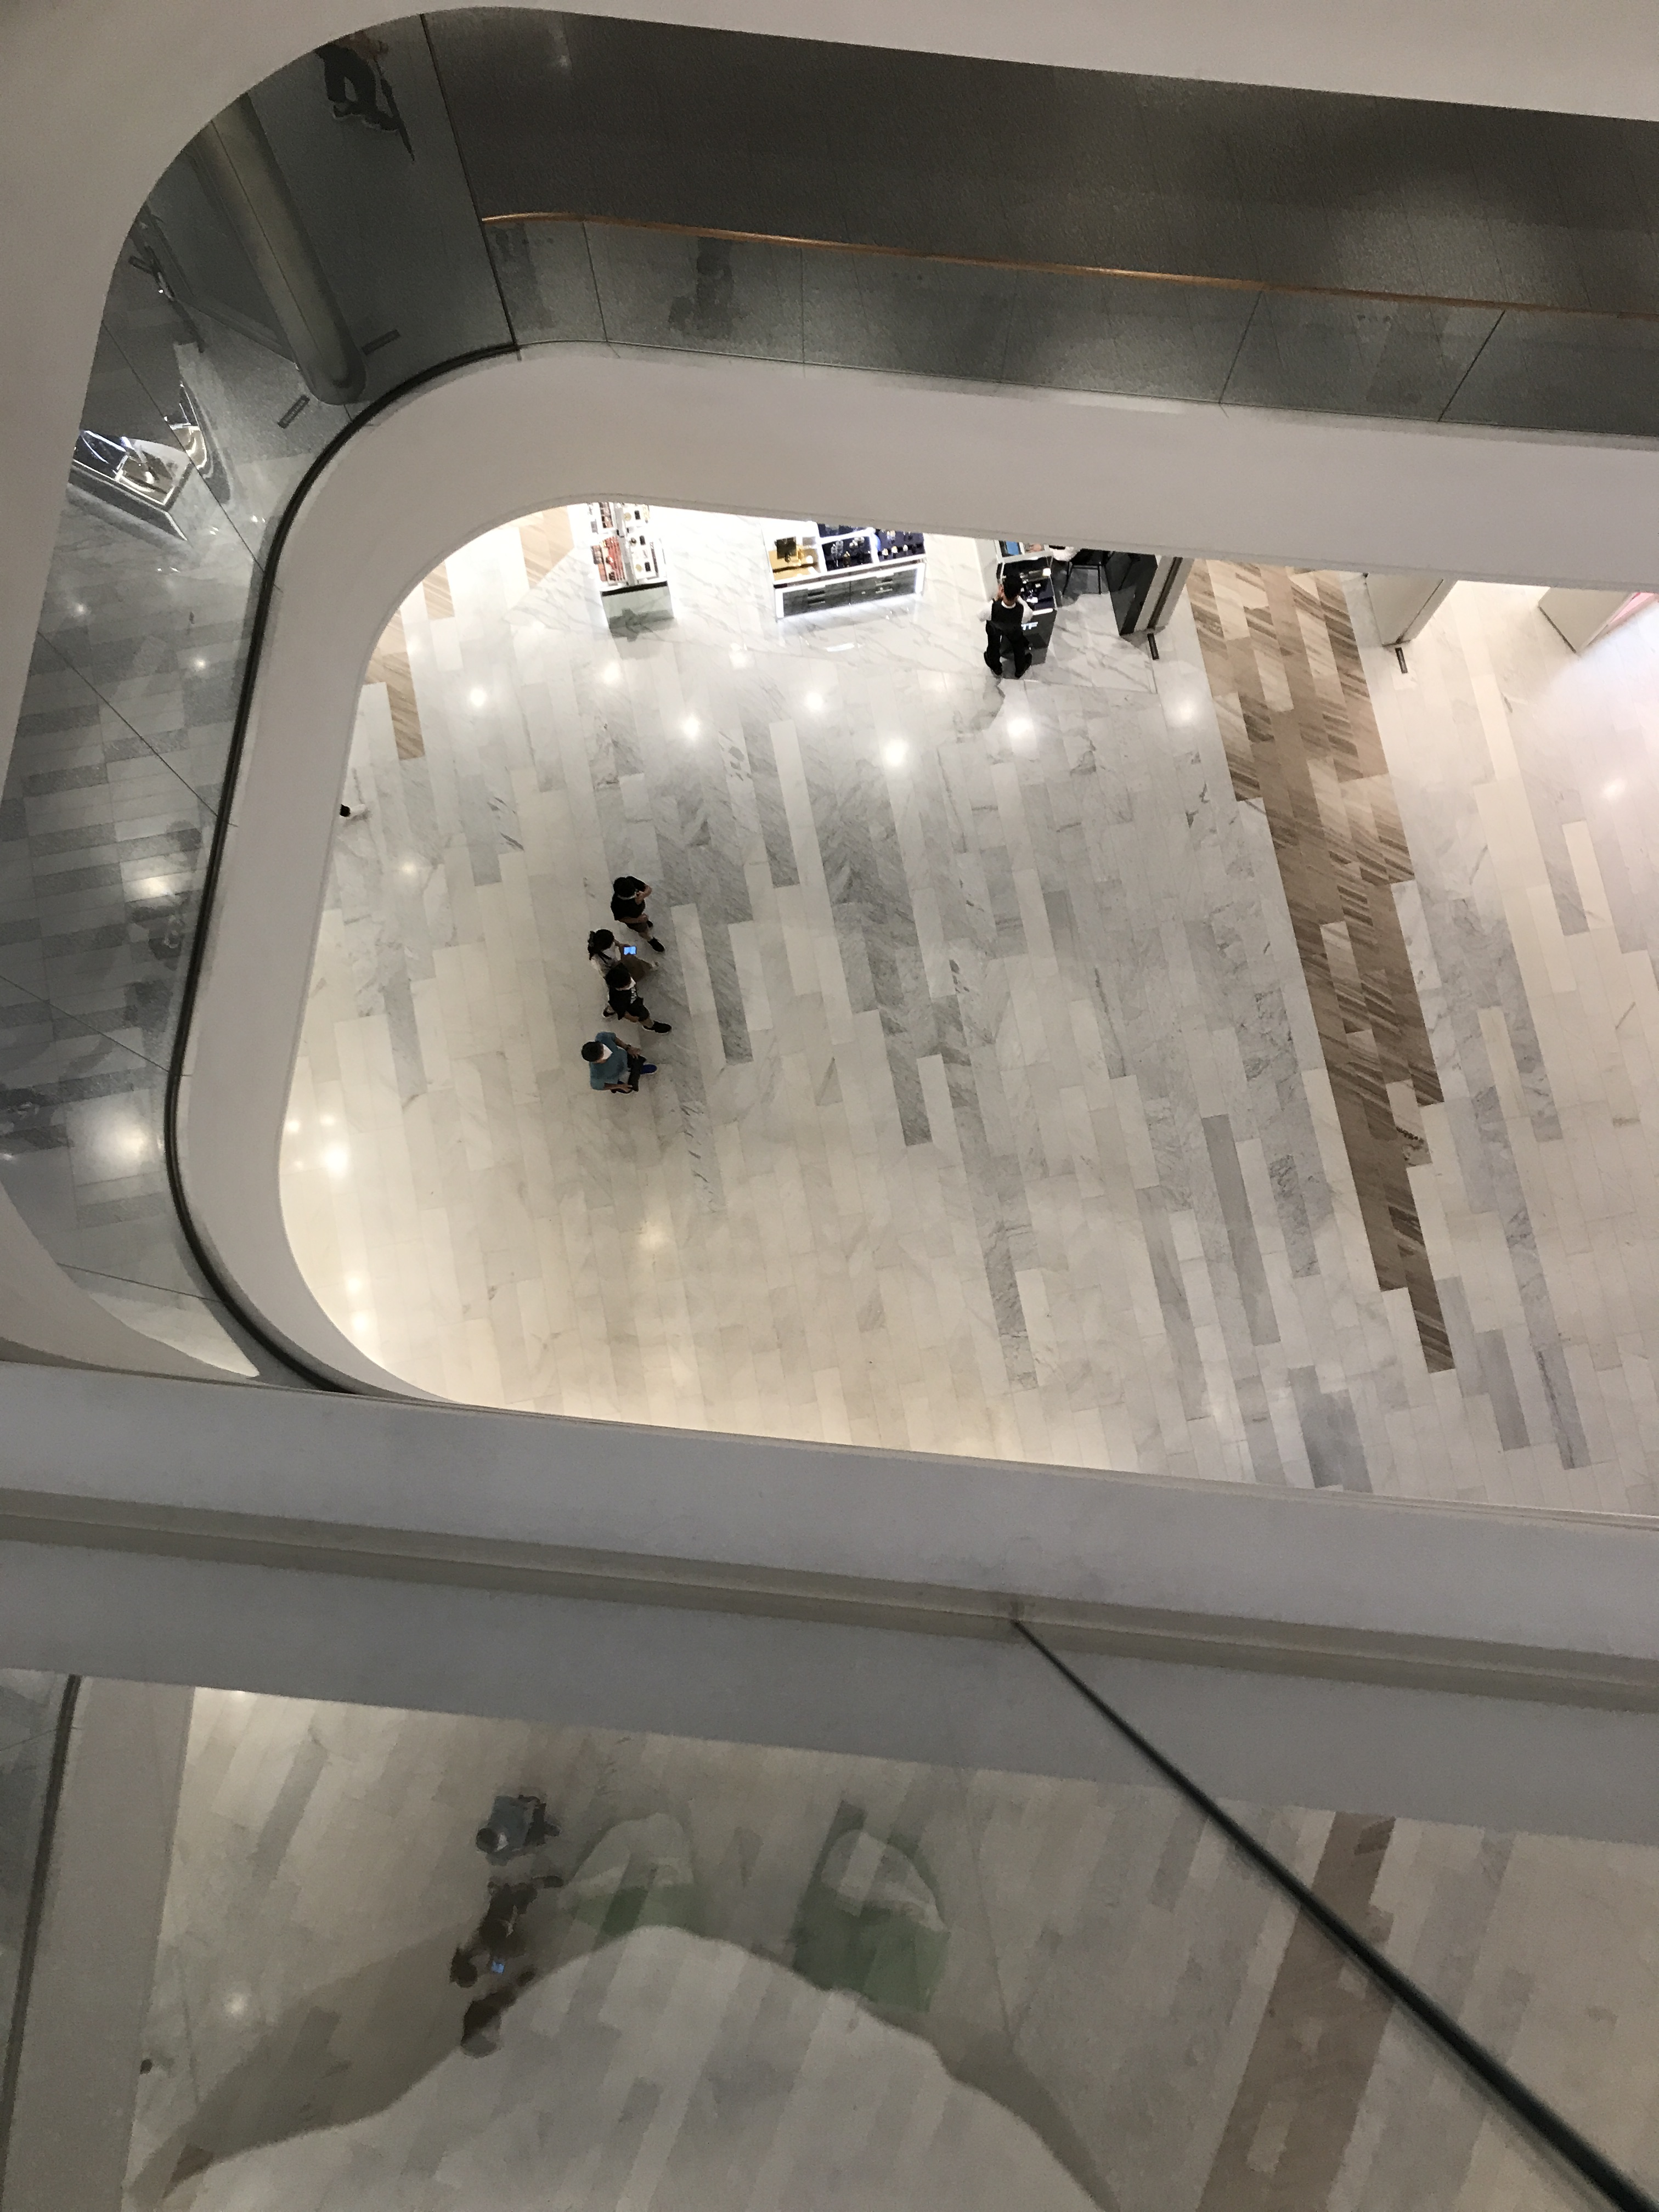person: (307, 29, 426, 169), (975, 573, 1034, 682), (600, 966, 673, 1037), (582, 1030, 658, 1095), (609, 874, 666, 953), (585, 927, 659, 986)
